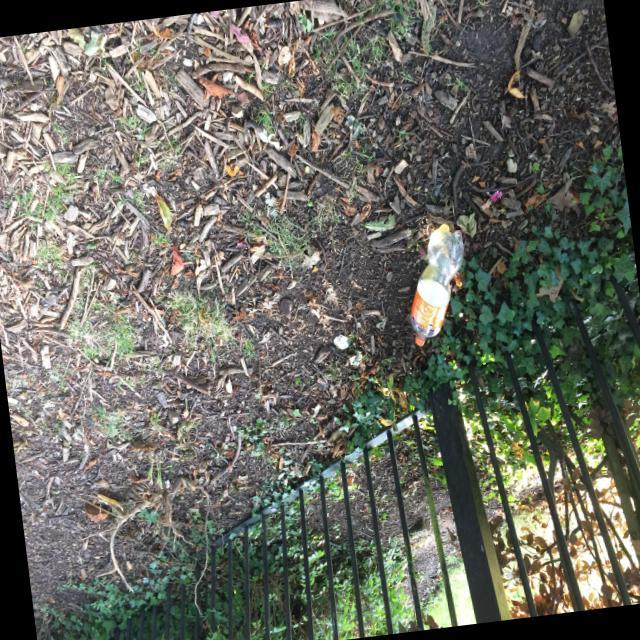good: (388, 223, 482, 344)
